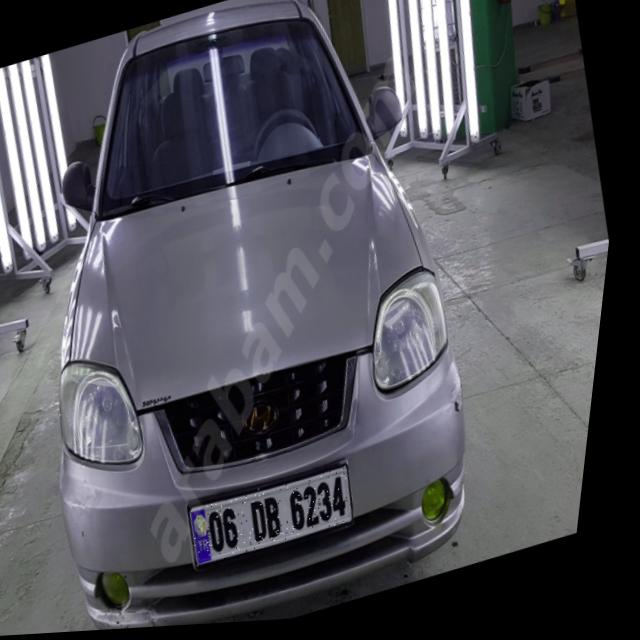license_plate: (196, 467, 370, 570)
